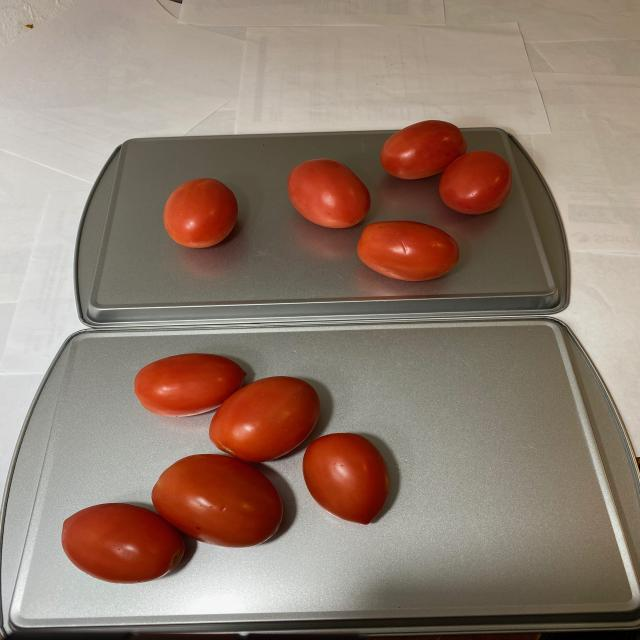tomato: (64, 350, 396, 580), (166, 119, 514, 284)
